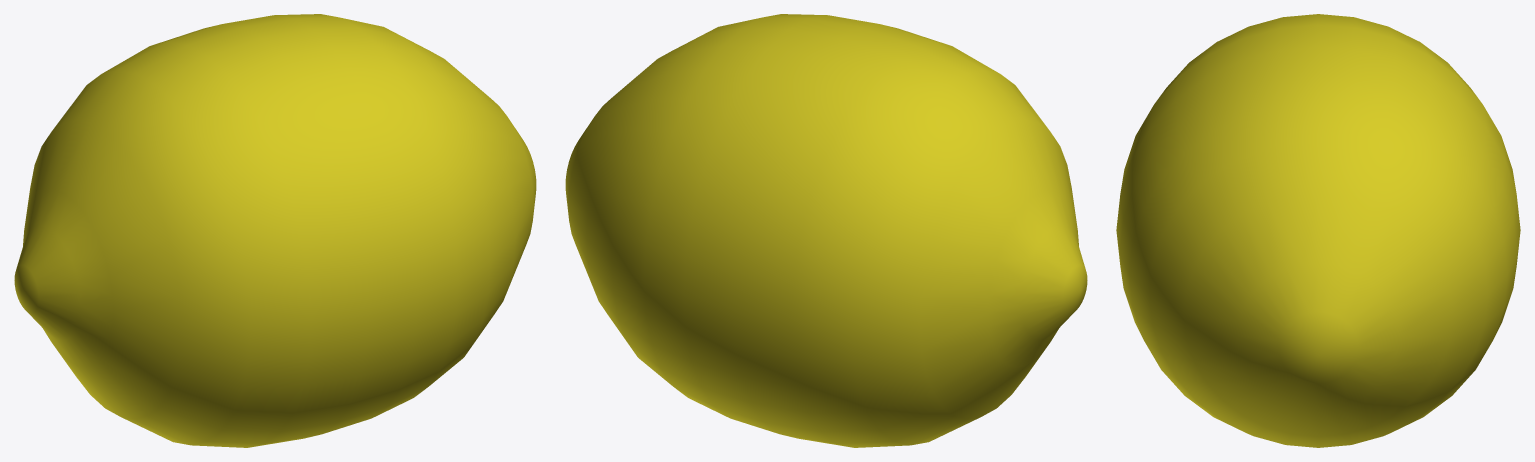
Rendered from LemonWhole.fbx.
3 views of the same model, side by side, from view 1: azimuth 30°, elevation 25°; view 2: azimuth 150°, elevation 25°; view 3: azimuth 270°, elevation 25° (orthographic). The views are drawn at different scales.
Visible parts, largest first — view 1: Circle_001; view 2: Circle_001; view 3: Circle_001.
Part boxes in pixels (<box>): Circle_001: <box>14,14,536,447</box>; Circle_001: <box>565,14,1087,447</box>; Circle_001: <box>1116,14,1520,447</box>.
Bounding box in the file's own units: 893 × 643 × 643.
